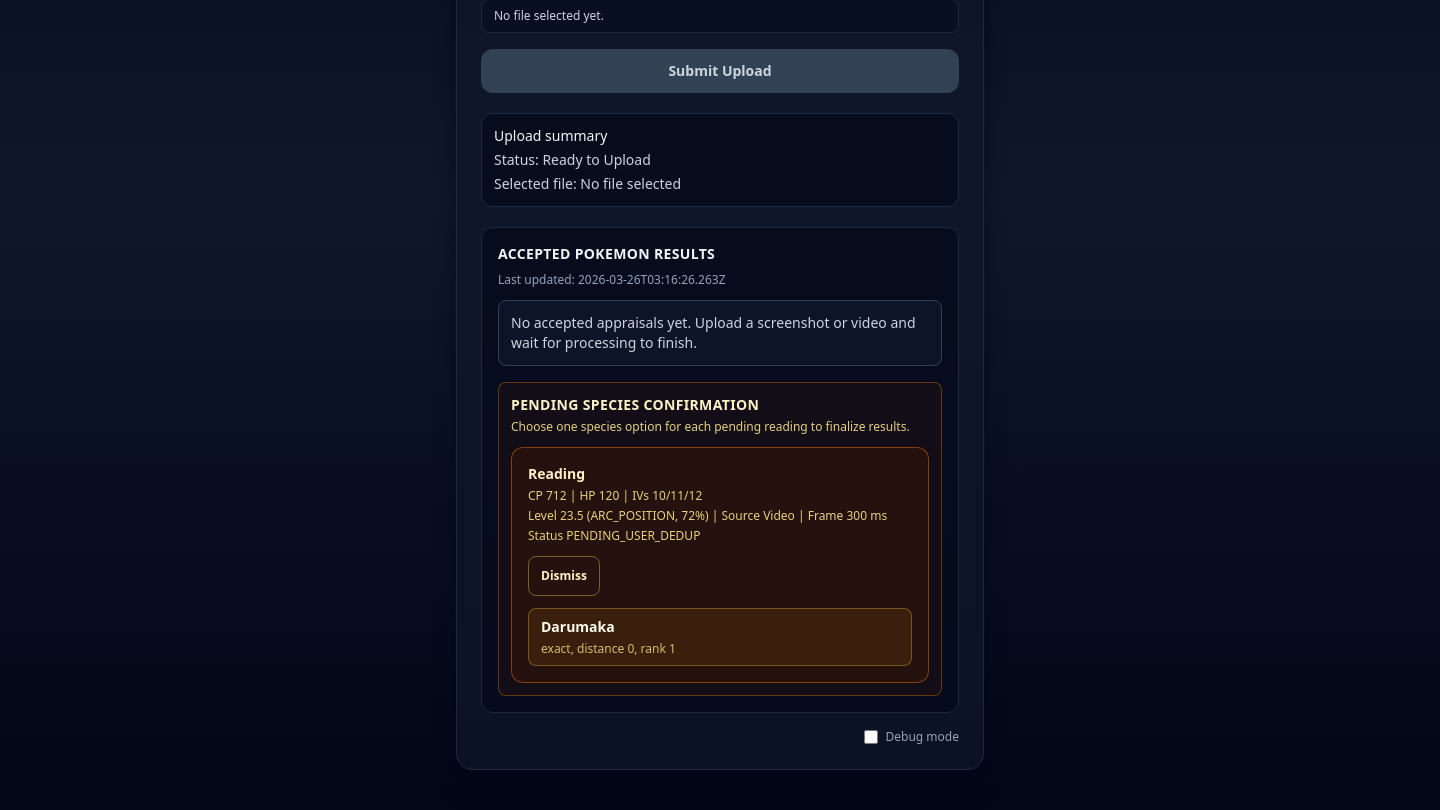
it: upload page job monitoring › resolves pending species reading and refreshes results
(page scrolled)
Expected: the heading "Pending Species Confirmation" is shown, [511,394,759,414]
Click the button "Darumaka exact, distance 0, rank 1" at (578, 626), box [528,608,912,666]
(page scrolled)
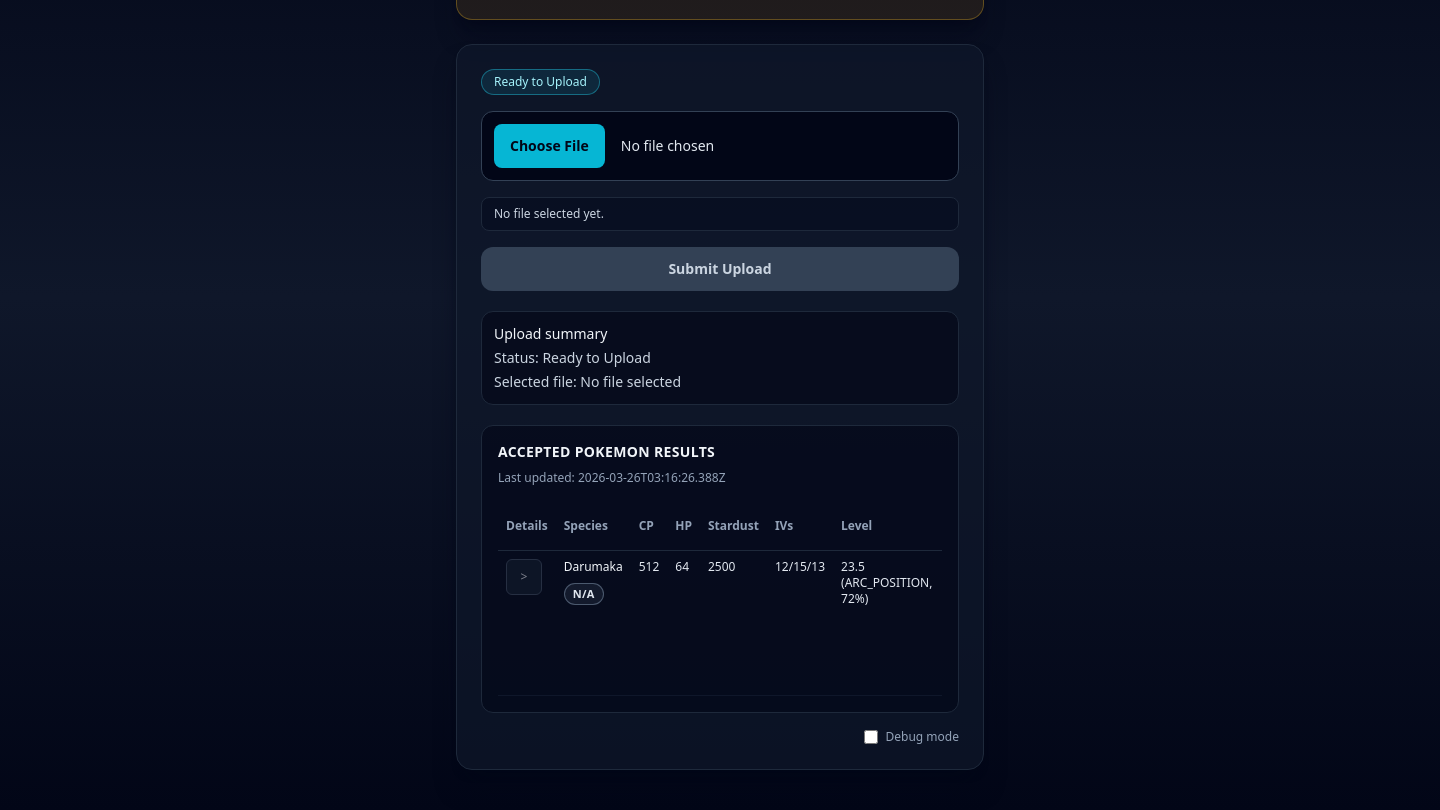
Expected: the heading "Pending Species Confirmation" is gone
